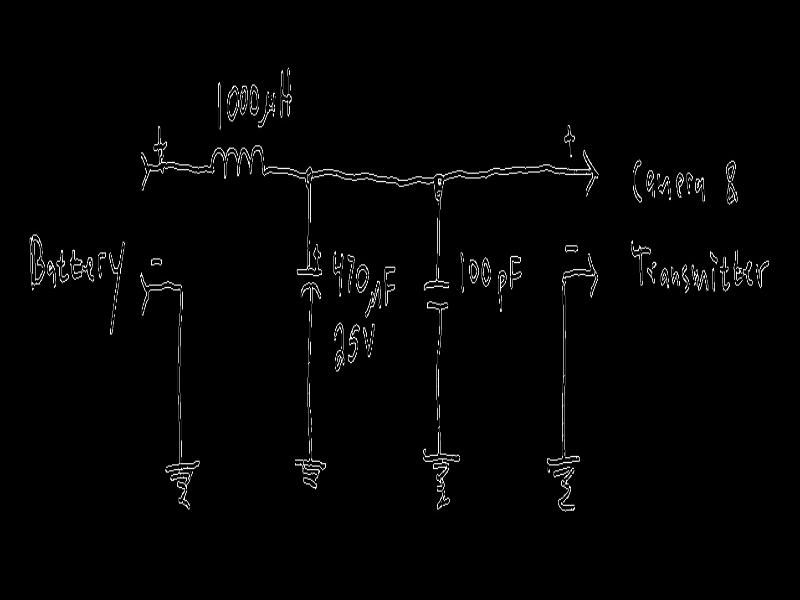-: (149, 253, 163, 269), (564, 242, 579, 254)
0: (226, 83, 240, 124), (355, 261, 369, 300), (479, 255, 493, 290), (238, 81, 249, 118), (249, 81, 260, 117), (468, 256, 480, 287)
1: (216, 77, 223, 131), (460, 249, 466, 296)
2: (333, 319, 345, 375)
4: (332, 245, 345, 300)
5: (347, 321, 361, 367)
7: (346, 251, 355, 296)
8: (725, 159, 739, 210)
9: (645, 166, 656, 202), (695, 174, 706, 208)
F: (383, 263, 396, 309), (509, 251, 523, 292)
H: (279, 64, 293, 119)
V: (754, 256, 770, 290), (362, 321, 376, 359), (646, 259, 658, 287)
m: (691, 260, 710, 295), (656, 170, 672, 202)
n: (670, 263, 681, 287)
p: (497, 267, 508, 315)
u: (257, 87, 276, 130), (364, 279, 383, 320)
